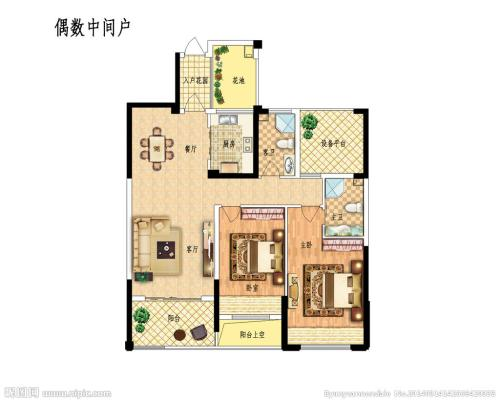wall: (364, 246, 369, 351), (126, 279, 133, 350), (126, 99, 132, 179), (252, 106, 258, 178), (281, 295, 288, 352), (363, 108, 368, 178), (213, 279, 219, 332), (209, 171, 253, 178), (175, 52, 179, 116)
